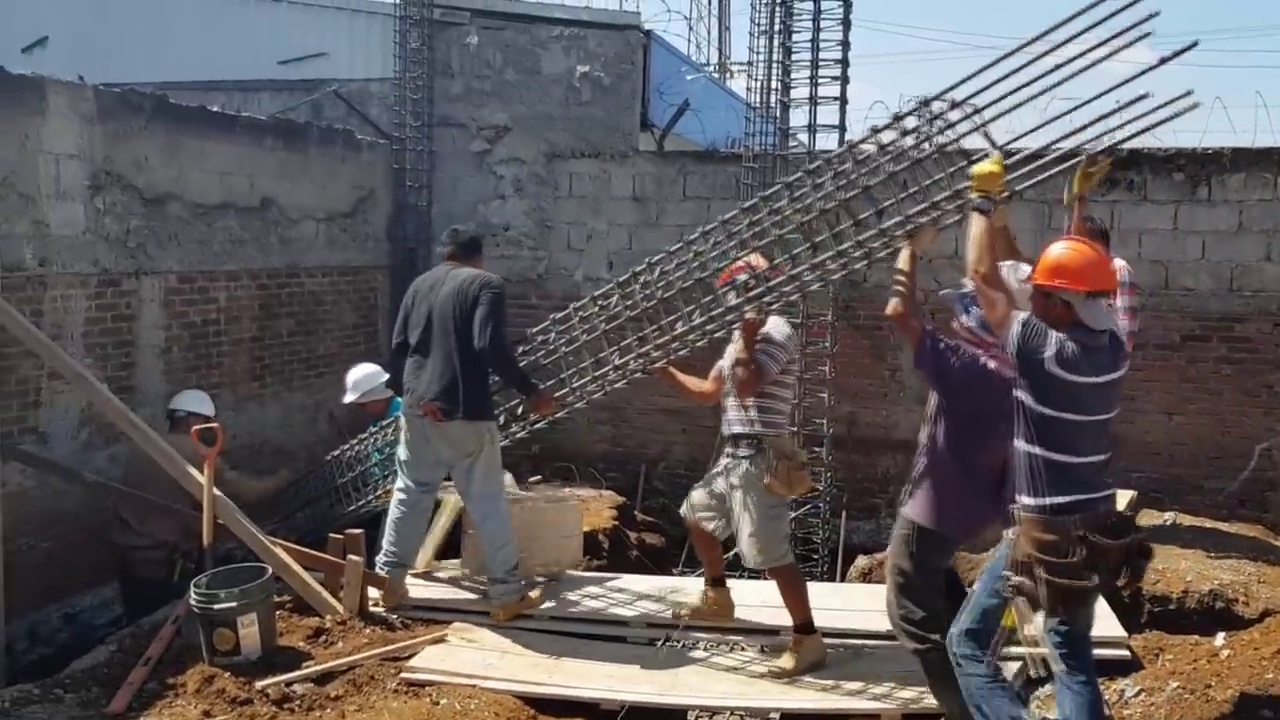helmet: (1029, 232, 1130, 306), (156, 392, 212, 434), (720, 257, 774, 297), (341, 364, 391, 406)
helmet-off: (432, 230, 480, 274)
helmet-on: (1026, 230, 1133, 337), (720, 256, 780, 321), (155, 391, 213, 456), (340, 363, 392, 423)
person: (955, 213, 1133, 720), (891, 217, 1035, 720), (377, 225, 542, 616), (679, 257, 822, 632), (109, 391, 304, 577), (340, 365, 403, 510)
